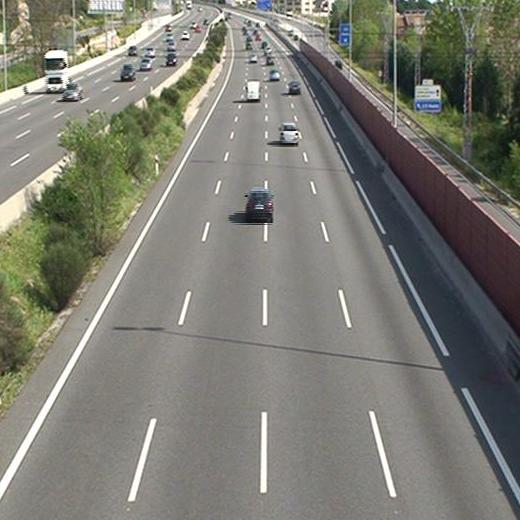car: (244, 188, 274, 221), (278, 122, 299, 145), (287, 81, 302, 95), (267, 69, 281, 80), (248, 52, 259, 64), (266, 55, 276, 65)
van: (245, 79, 260, 101)
